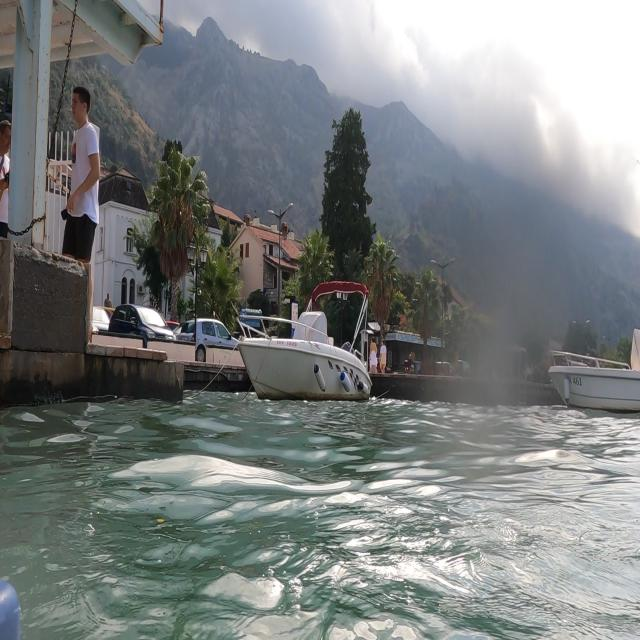boat: (235, 276, 375, 404), (540, 303, 640, 413)
